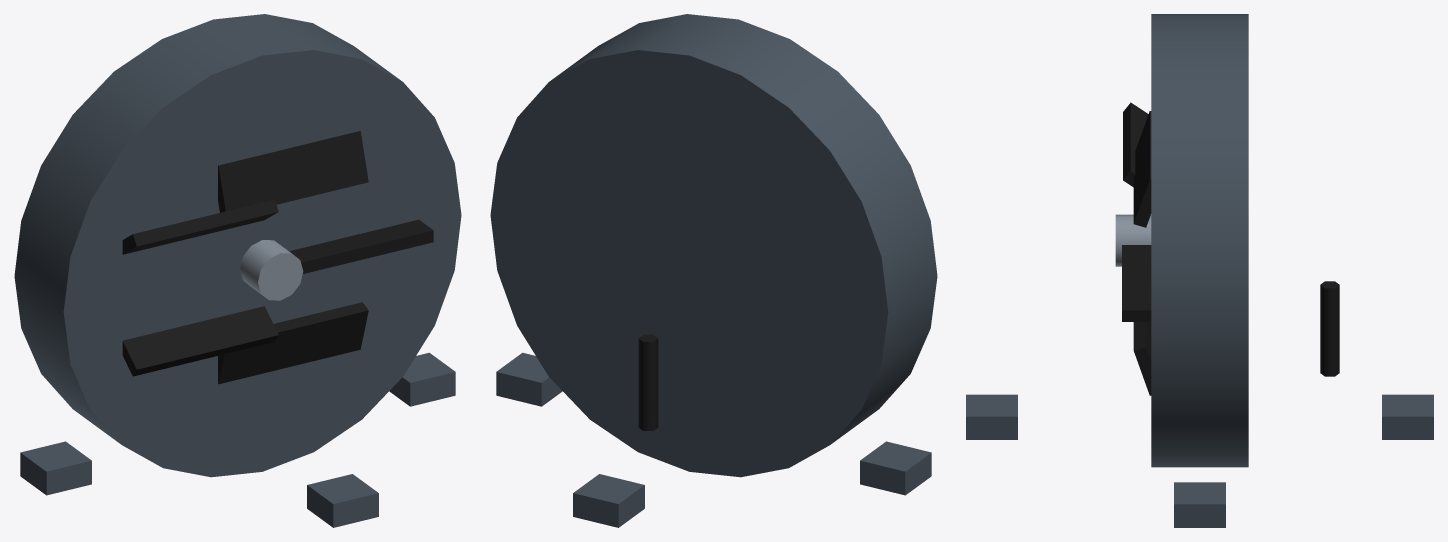
File: fan.glb
3 views of the same model, side by side, from view 1: azimuth 30°, elevation 25°; view 2: azimuth 150°, elevation 25°; view 3: azimuth 270°, elevation 25° (orthographic).
Size of the model in its own units: 0.72 by 0.7 by 0.72.
